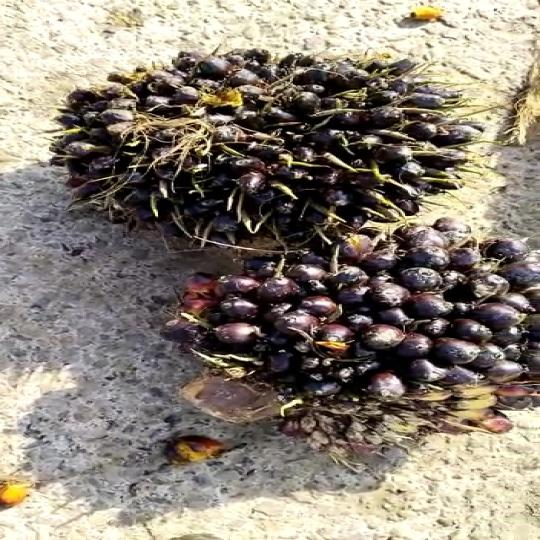mentah: (47, 38, 510, 240), (199, 226, 540, 434)
